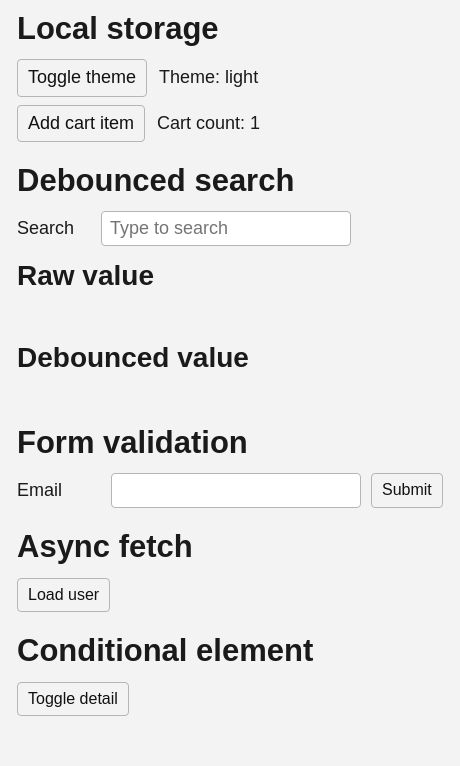
App form behavior › renders the form, submits valid input, and shows validation error for invalid input
This screenshot has width=460, height=766.
Step 1. Type "invalid-email" into the field labelled "Email" → (236, 491), box [111,473,361,508]
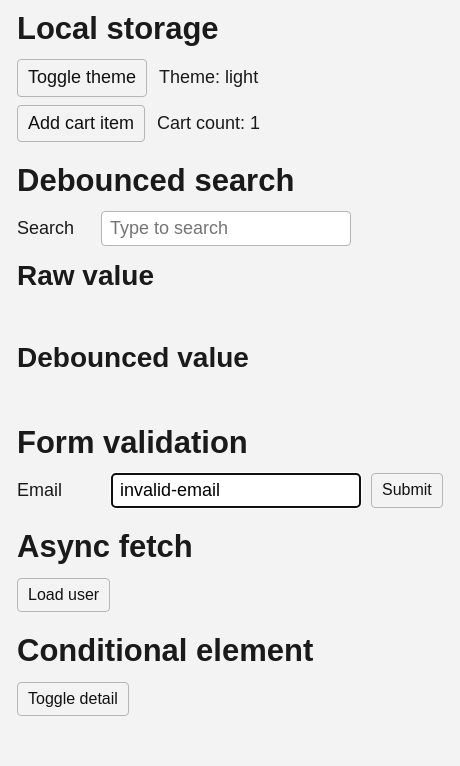
Step 2. Click the button "Submit" → click(407, 491), box [371,473,443,508]
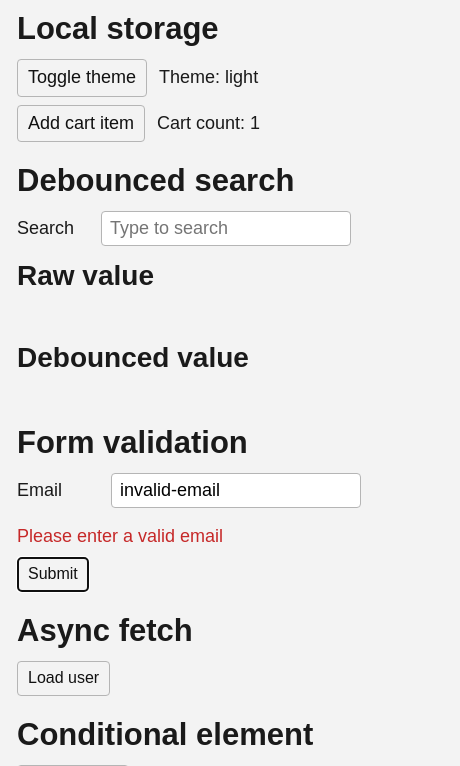
Now the text "Please enter a valid email" is shown, box [17,526,223,546]
Step 3. Replace the text in the field labelled "Email" with "test@example.com" → (236, 491), box [111,473,361,508]
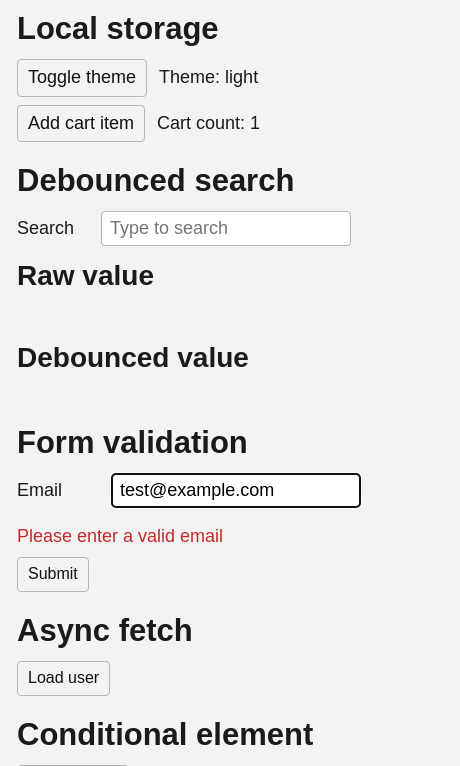
Step 4. Click the button "Submit" → click(53, 575), box [17,557,89,592]
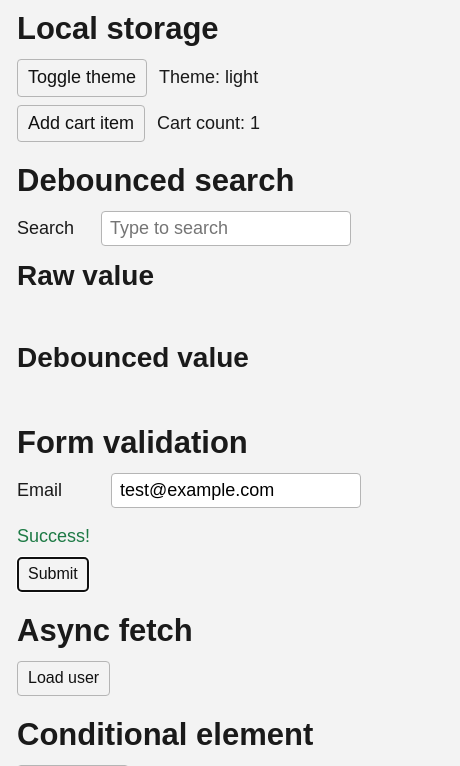
Now the text "Success!" is shown, box [17,526,90,546]
